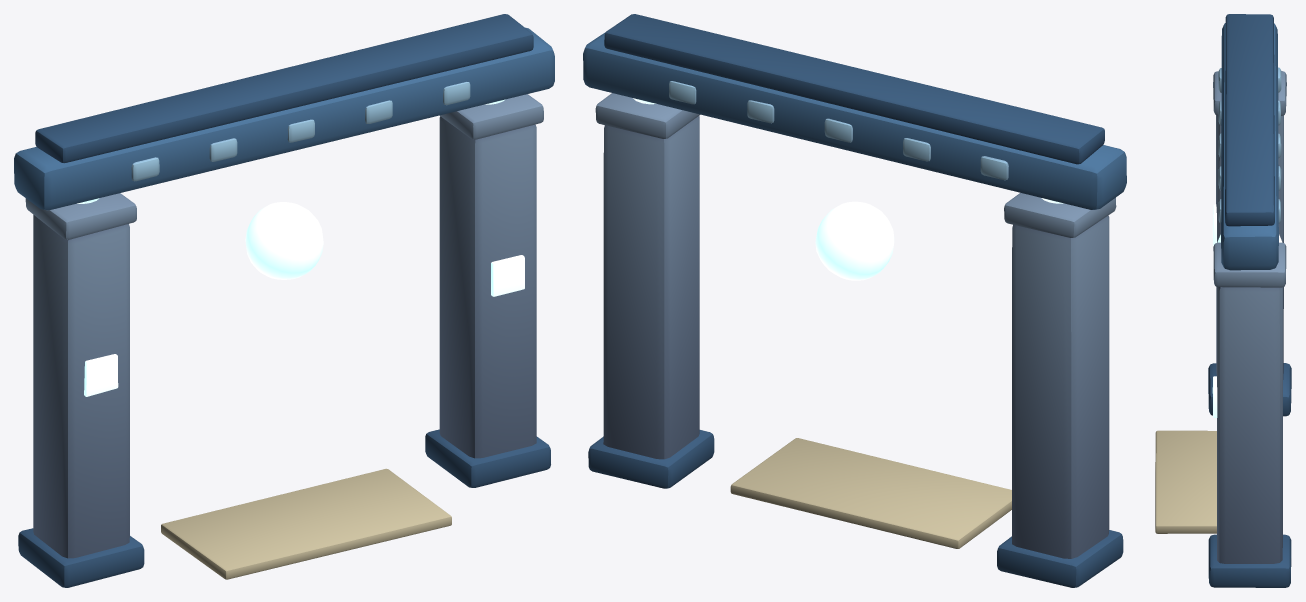
3 renders of one model, left to right at view 1: azimuth 30°, elevation 25°; view 2: azimuth 150°, elevation 25°; view 3: azimuth 270°, elevation 25°, orthographic. The views are drawn at different scales.
Parts seen in each view (by area): view 1: gate_6b2d4d2e; view 2: gate_6b2d4d2e; view 3: gate_6b2d4d2e.
Part boxes in pixels (x1,y1,x2,y2): gate_6b2d4d2e: [14, 14, 554, 587]; gate_6b2d4d2e: [583, 14, 1126, 587]; gate_6b2d4d2e: [1155, 14, 1291, 587].
Bounding box in the file's own units: 5.45 × 4.38 × 1.44.
